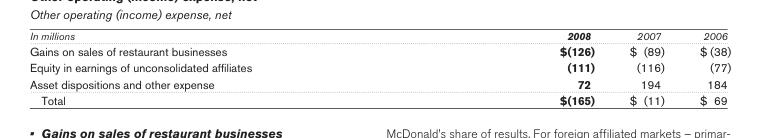table: (28, 29, 730, 106)
table column: (28, 29, 405, 106), (405, 29, 611, 106), (611, 29, 681, 106), (681, 29, 730, 106)
table column header: (28, 29, 730, 43)
table row: (28, 43, 730, 59), (28, 59, 730, 75), (28, 75, 730, 91), (28, 91, 730, 106), (28, 29, 730, 43)
